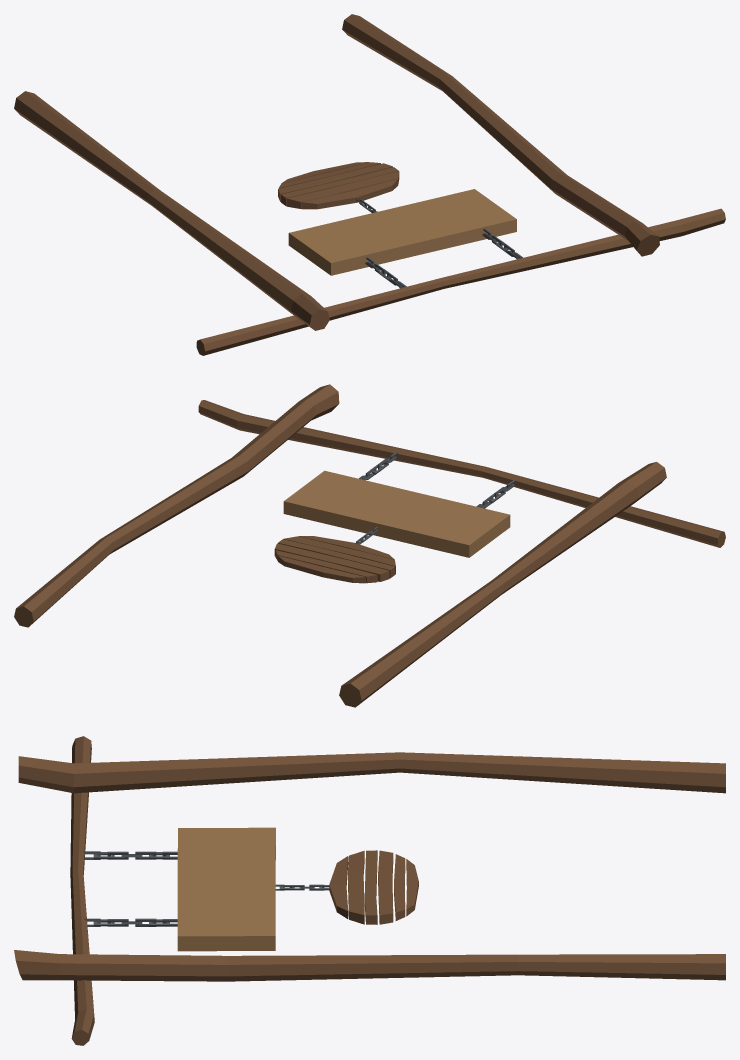
File: Panel_25.fbx
3 views of the same model, one above another, from view 1: azimuth 30°, elevation 25°; view 2: azimuth 150°, elevation 25°; view 3: azimuth 270°, elevation 25° (orthographic). The views are drawn at different scales.
Parts seen in each view (by area): view 1: Poteau 3*2 chaines LOW.002; view 2: Poteau 3*2 chaines LOW.002; view 3: Poteau 3*2 chaines LOW.002.
Boxes of the visible parts, left/top/right/bottom form: Poteau 3*2 chaines LOW.002: left=14, top=14, right=725, bottom=355; Poteau 3*2 chaines LOW.002: left=14, top=384, right=725, bottom=707; Poteau 3*2 chaines LOW.002: left=14, top=736, right=725, bottom=1045.
Size of the model in its own units: 160 by 13.25 by 161.
